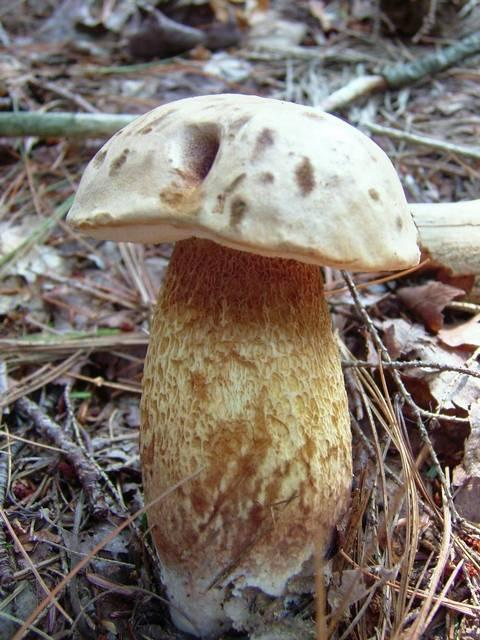Non-edible Mushroom: (64, 91, 422, 637)
